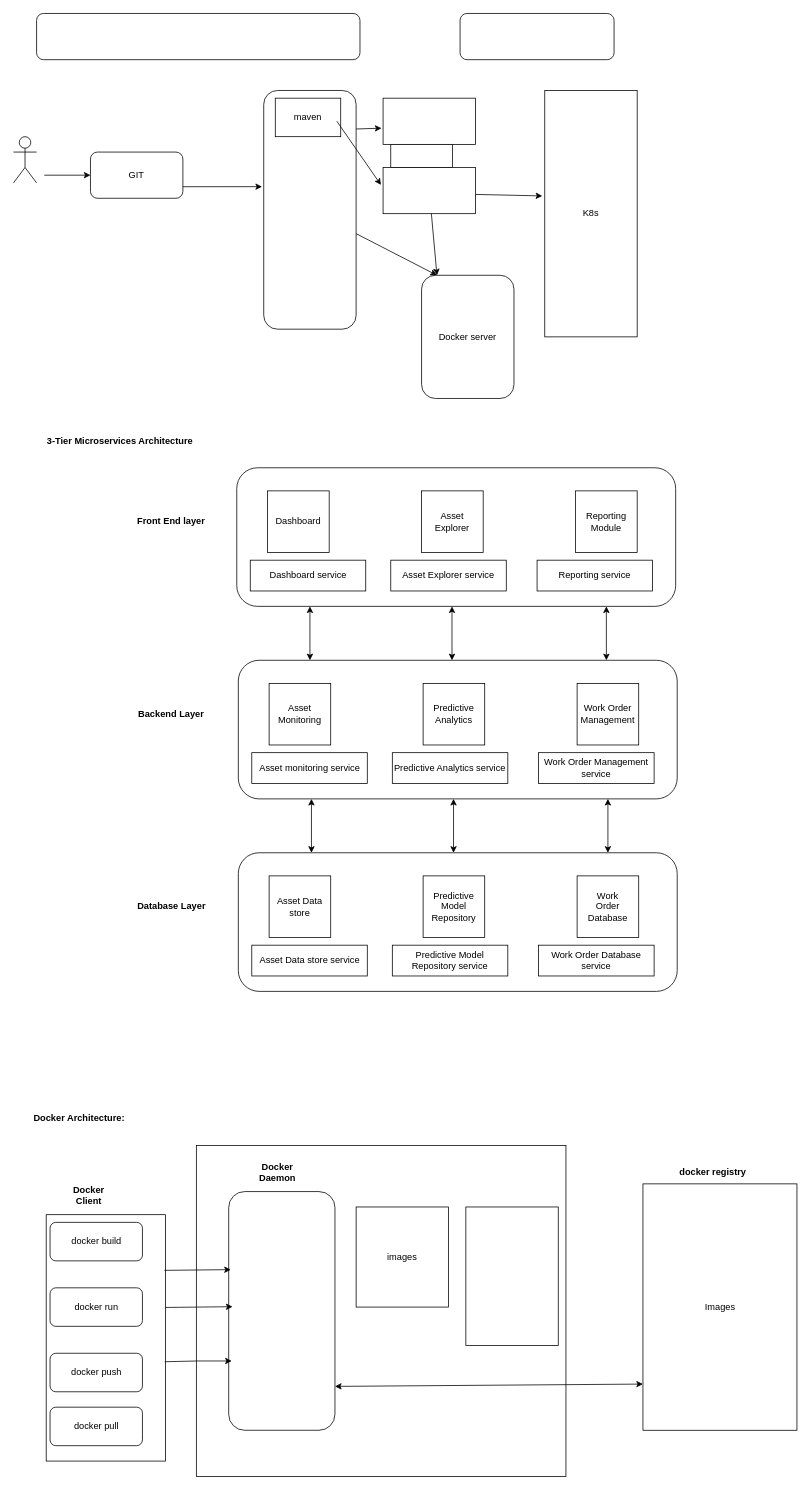
The diagram is 811 pixels wide and 1490 high, and some of its shapes have lost their labels. Each missing label, with the box of its shape:
Actor: (13, 136, 37, 183)
containers: (465, 1206, 558, 1346)
Continuous Deployment: (459, 13, 614, 60)
Continuous Integration/Continuous Delivery: (36, 13, 360, 60)
dockerd: (228, 1191, 335, 1430)
Jenkins: (263, 90, 356, 329)
Nexus/Mirantis: (382, 167, 475, 214)
Sonarqube: (382, 97, 475, 144)
